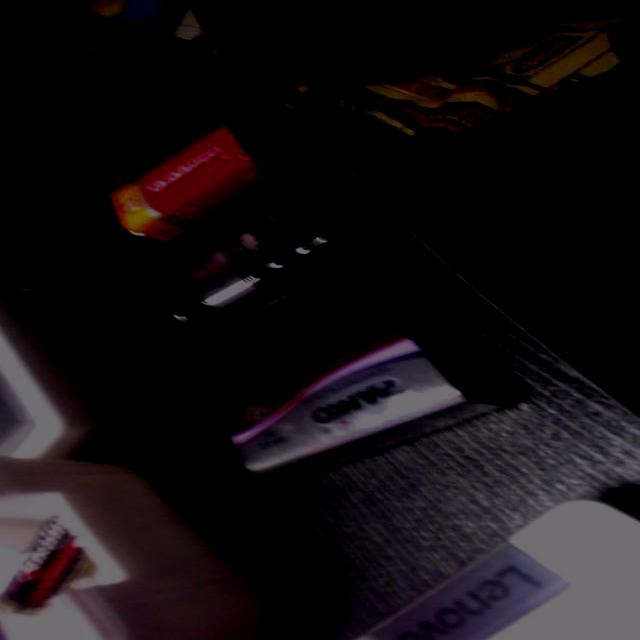9V: (195, 317, 495, 493), (140, 200, 390, 336), (90, 118, 311, 244)
